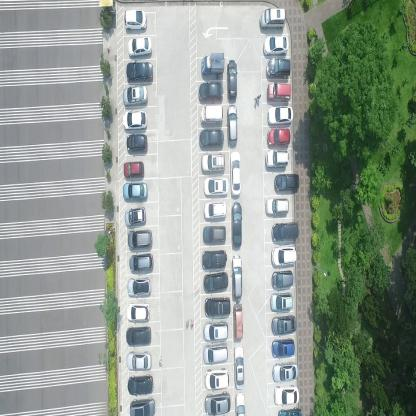car: (204, 366, 230, 392), (259, 7, 286, 31), (127, 60, 154, 84), (204, 392, 232, 415), (200, 51, 224, 77), (266, 104, 294, 126), (202, 176, 230, 198), (262, 35, 289, 57), (204, 296, 231, 318), (202, 343, 229, 365), (233, 344, 245, 392), (203, 320, 228, 343), (274, 384, 300, 406), (198, 128, 224, 150), (200, 152, 226, 174), (203, 271, 229, 293), (122, 109, 148, 131), (125, 276, 151, 298), (126, 324, 152, 346), (126, 350, 152, 372), (272, 222, 299, 243), (272, 361, 299, 382), (127, 375, 154, 396), (230, 151, 242, 197), (199, 104, 223, 127), (266, 57, 291, 79), (129, 252, 154, 274), (271, 245, 297, 266), (202, 249, 228, 270), (122, 85, 148, 106), (231, 199, 242, 248), (231, 254, 242, 302), (202, 223, 226, 245), (124, 8, 148, 30), (128, 36, 152, 58), (126, 301, 150, 323), (128, 230, 153, 251), (129, 396, 156, 415), (266, 148, 290, 169), (123, 181, 148, 201), (274, 174, 300, 193), (271, 316, 297, 335), (124, 206, 146, 228), (272, 338, 295, 359), (267, 82, 291, 102), (270, 292, 294, 312), (227, 104, 238, 147), (198, 84, 224, 102), (272, 269, 294, 290), (226, 58, 237, 100), (126, 133, 148, 154), (266, 127, 290, 146), (202, 202, 227, 220), (266, 197, 289, 216), (122, 160, 145, 179), (233, 304, 243, 341), (277, 405, 302, 415), (235, 393, 246, 415)
